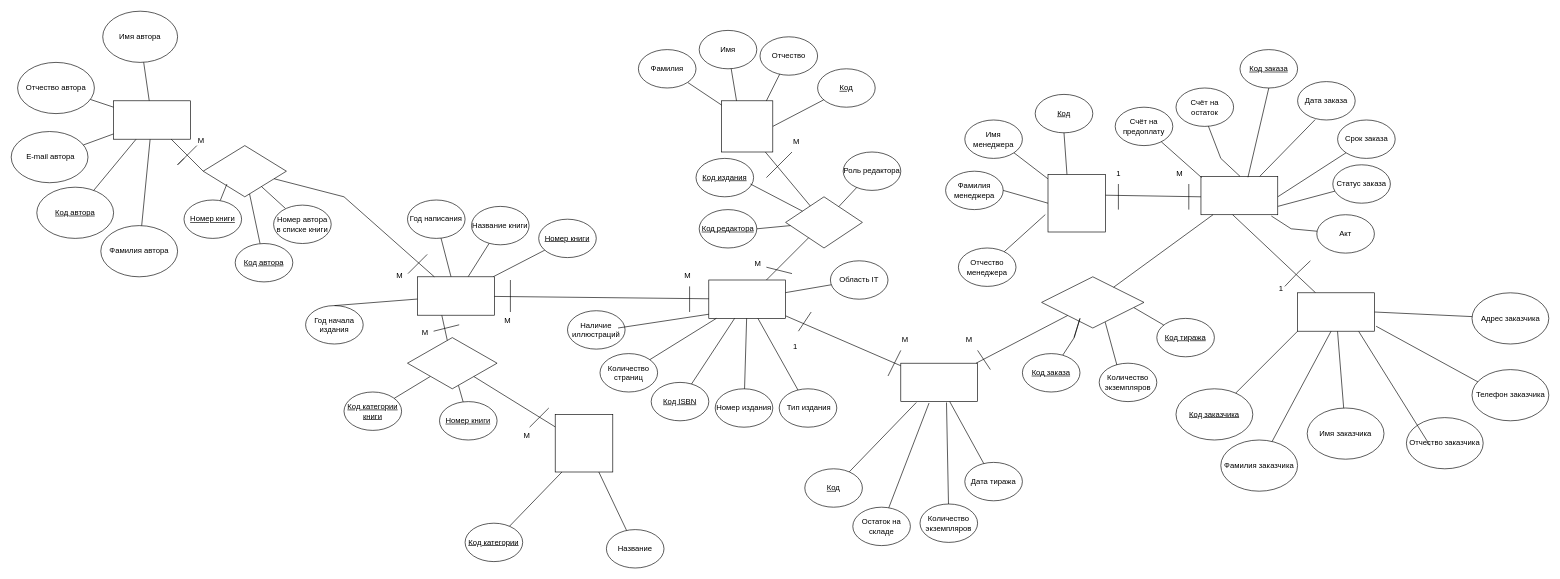
This 1560x579 diagram has some shape labels left out. The shapes that lost their labels are listed below. From the top down, each one's centre as x and y in pixels, then its label:
At (x=151, y=119): "Автор".
At (x=747, y=126): "Редактор".
At (x=244, y=171): "Авторство".
At (x=1076, y=203): "Менеджер".
At (x=1239, y=195): "Заказ".
At (x=823, y=222): "Редакция".
At (x=455, y=295): "Книга".
At (x=747, y=298): "Издание".
At (x=1092, y=302): "Составление заказа".
At (x=1335, y=311): "Заказчик".
At (x=452, y=363): "Категоризация".
At (x=939, y=382): "Тираж".
At (x=584, y=443): "Категория книги".
